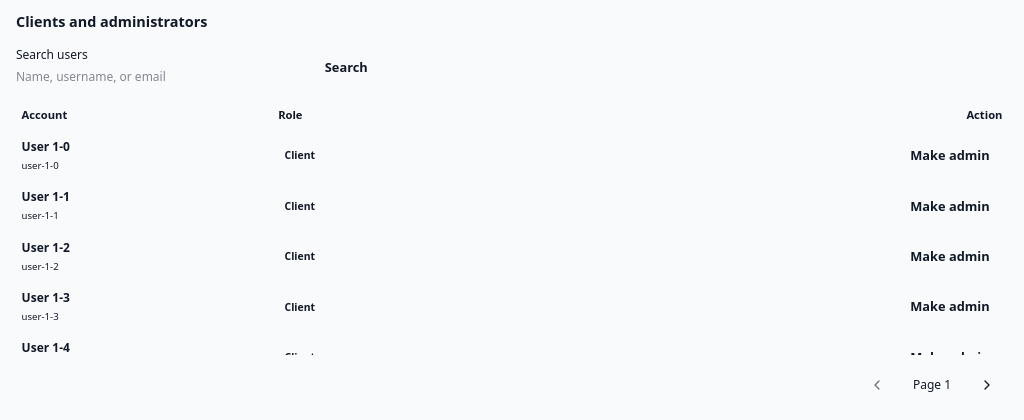
Test: shows ten latest accounts and navigates pages before applying a search
Expected: the text "User 1-0" is shown, x1=22 y1=138 x2=70 y2=155
Expected: the text "Page 1" is shown, x1=913 y1=376 x2=951 y2=393
Step 1. Click the button named "Next" → (987, 385), box x1=966 y1=367 x2=1008 y2=403
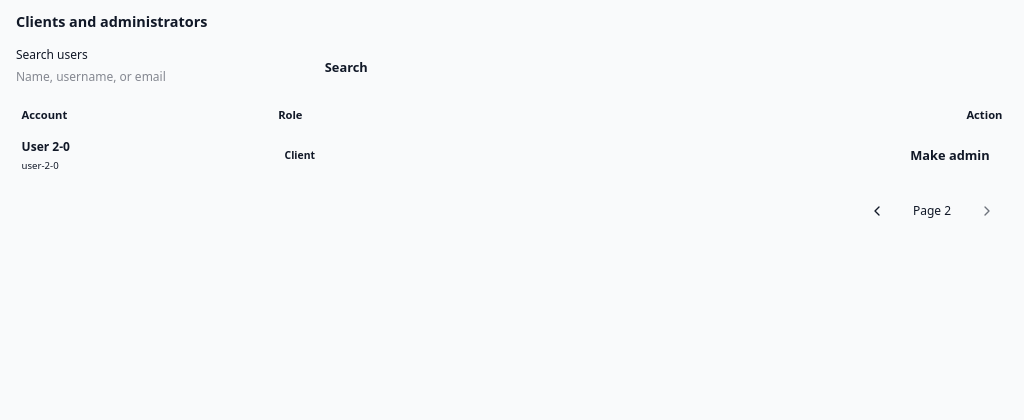
Now the text "User 2-0" is shown, box x1=22 y1=138 x2=70 y2=155
Now the text "Page 2" is shown, box x1=913 y1=202 x2=951 y2=219
Now the text "User 1-0" is gone
Step 2. Type "taylor" into the search field labelled "Search users" → (160, 77), box x1=16 y1=68 x2=304 y2=86
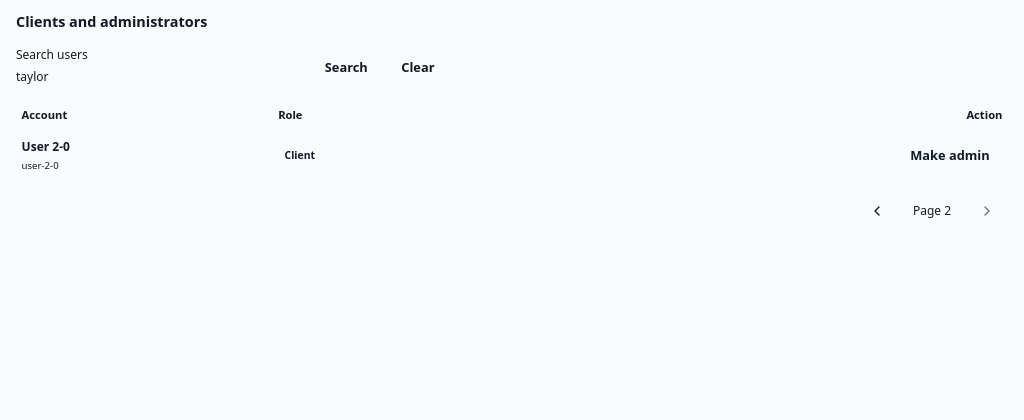
Step 3. Click the button "Search" → (346, 68), box x1=312 y1=50 x2=380 y2=86
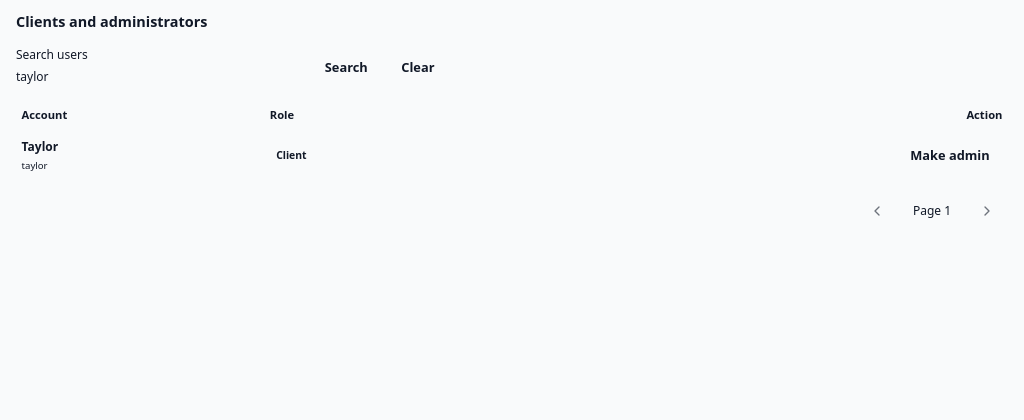
Now the text "Taylor" is shown, box x1=22 y1=138 x2=58 y2=155
Now the text "Page 1" is shown, box x1=913 y1=202 x2=951 y2=219
